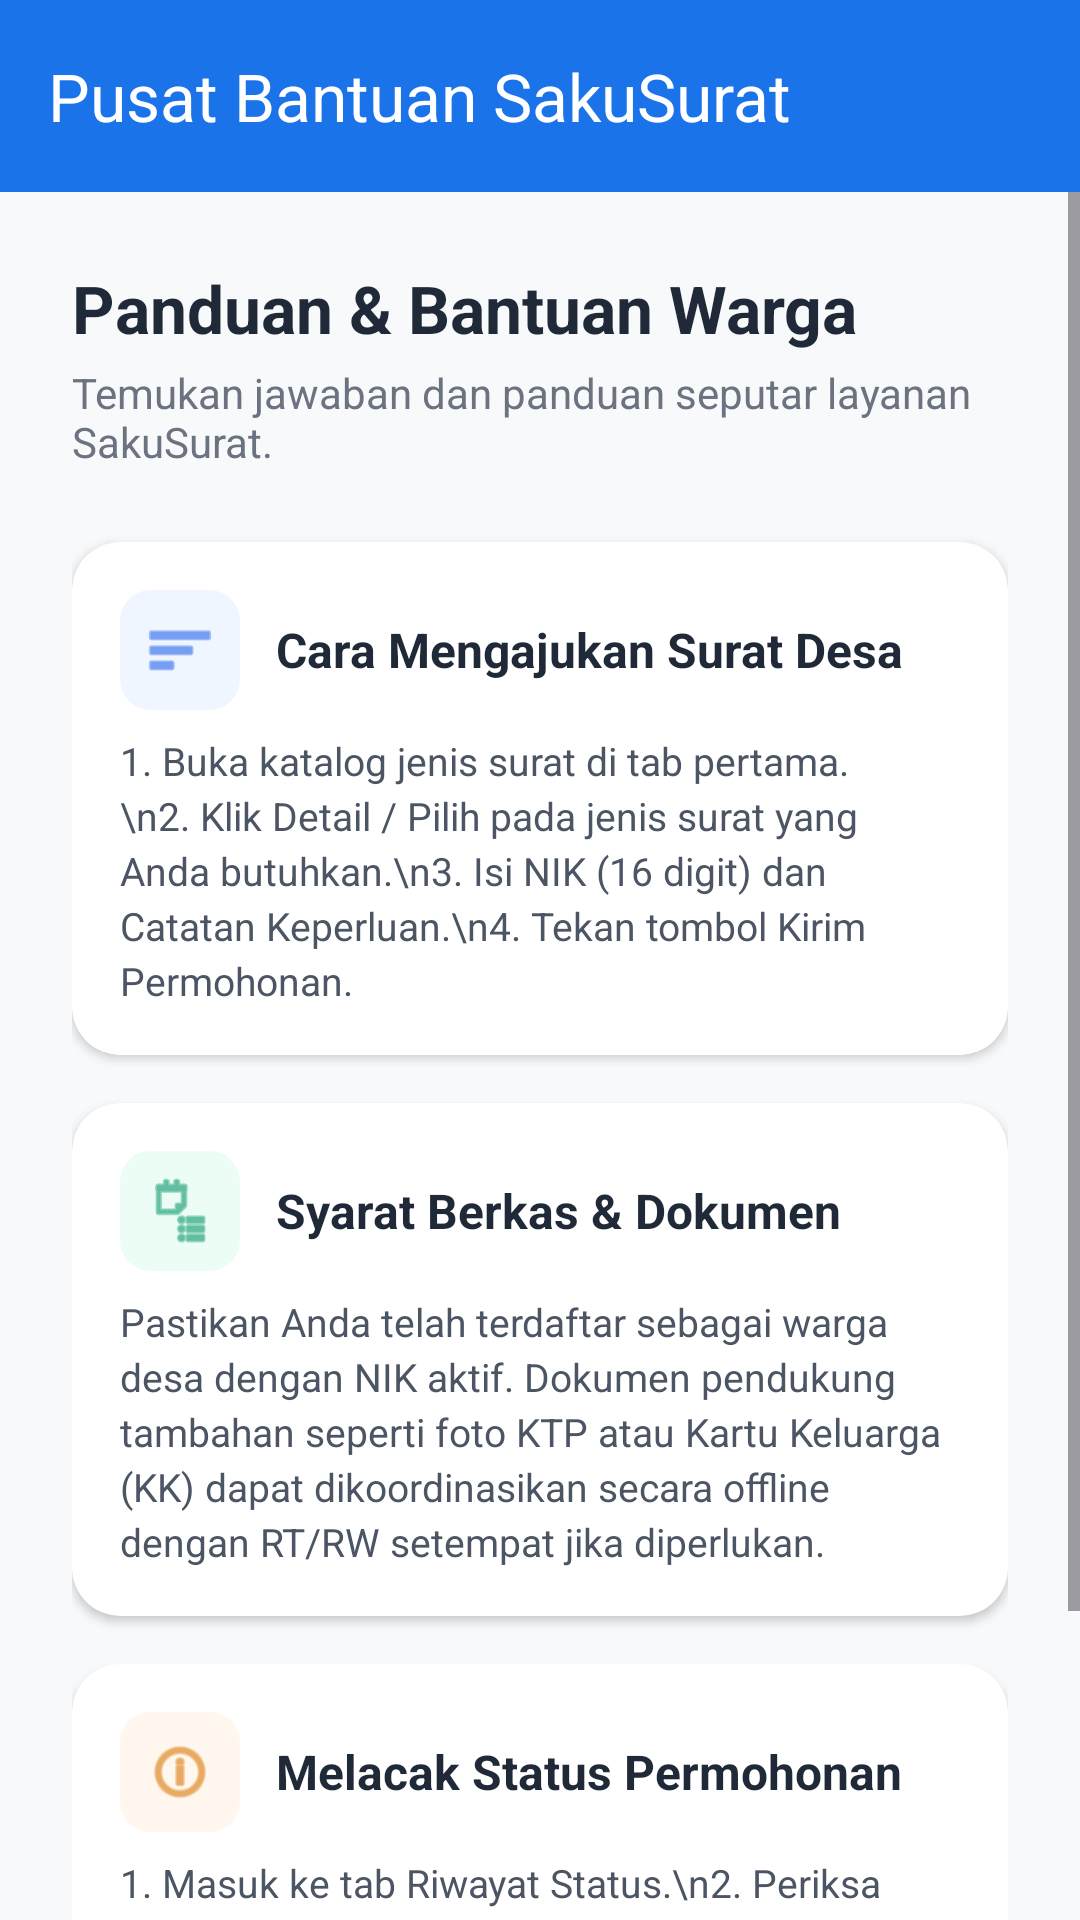

Point at icon controls on the screen. Image size 1080 x 1920, points as (x=x, y=y).
agenda: (x=180, y=1211)
info details: (x=180, y=1772)
sort by size: (x=180, y=650)
